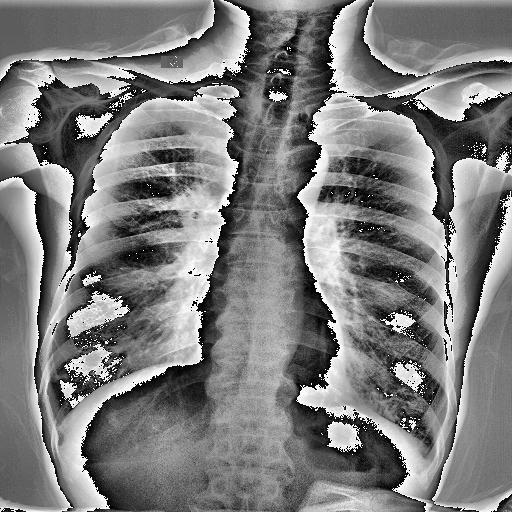0- Aortic enlargement: (292, 142, 328, 172)
10- Pleural effusion: (414, 445, 442, 471)
11- Pleural thickening: (414, 445, 442, 471)
13- Pulmonary fibrosis: (45, 364, 101, 382), (52, 368, 74, 384)
7- Lung Opacity: (52, 368, 74, 384)
